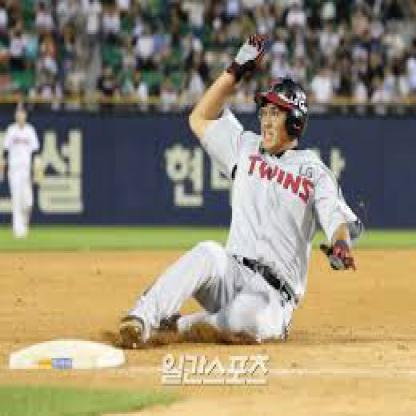Fall_Down: (115, 32, 367, 357)
